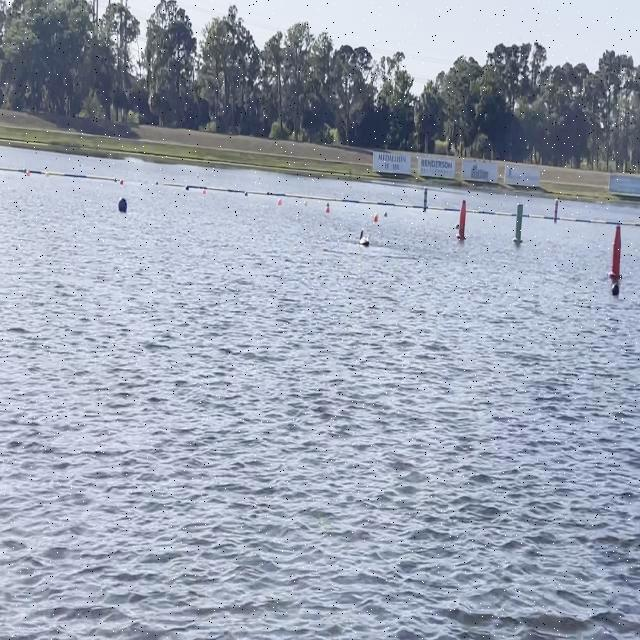buoy: (114, 193, 130, 216), (374, 204, 381, 227), (276, 197, 288, 210), (299, 200, 310, 213), (241, 189, 250, 199), (324, 208, 332, 218), (383, 209, 390, 219), (202, 190, 208, 200)
